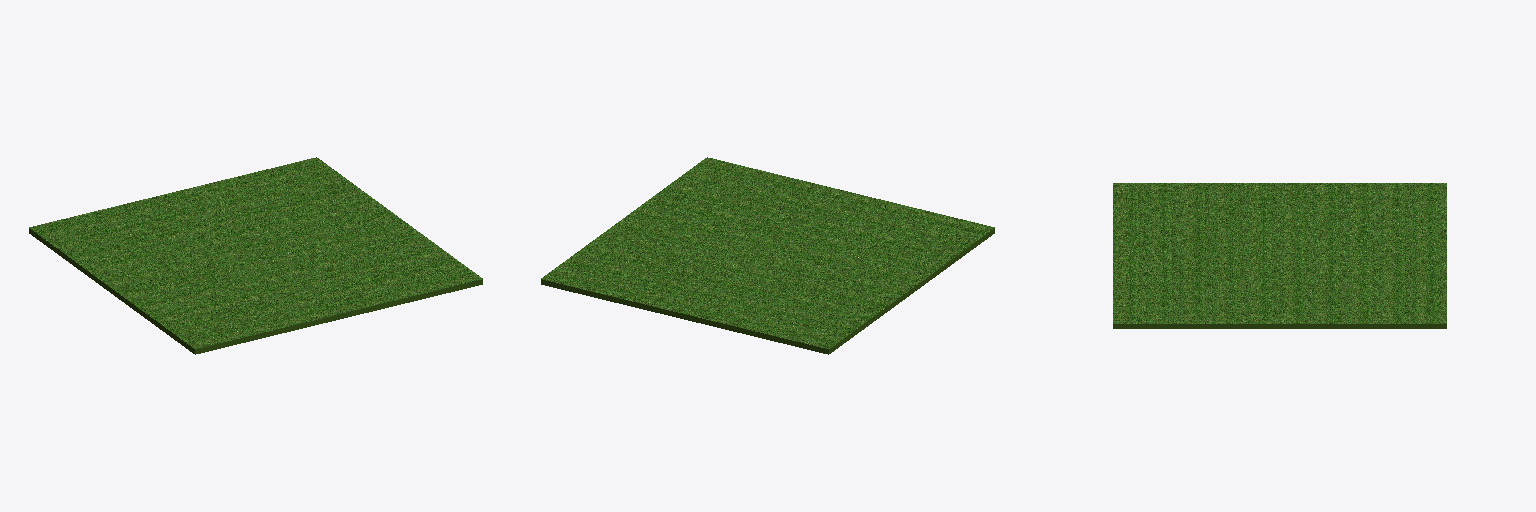
The picture shows the model from 3 angles: view 1: azimuth 30°, elevation 25°; view 2: azimuth 150°, elevation 25°; view 3: azimuth 270°, elevation 25°; orthographic projection.
Visible parts, largest first — view 1: grass; view 2: grass; view 3: grass.
Boxes of the visible parts, <box> form: grass: <box>29,157,482,354</box>; grass: <box>541,157,994,354</box>; grass: <box>1113,183,1446,328</box>.
Bounding box in the file's own units: 56 × 1 × 56.
Materials: 1 (1 with a texture image).